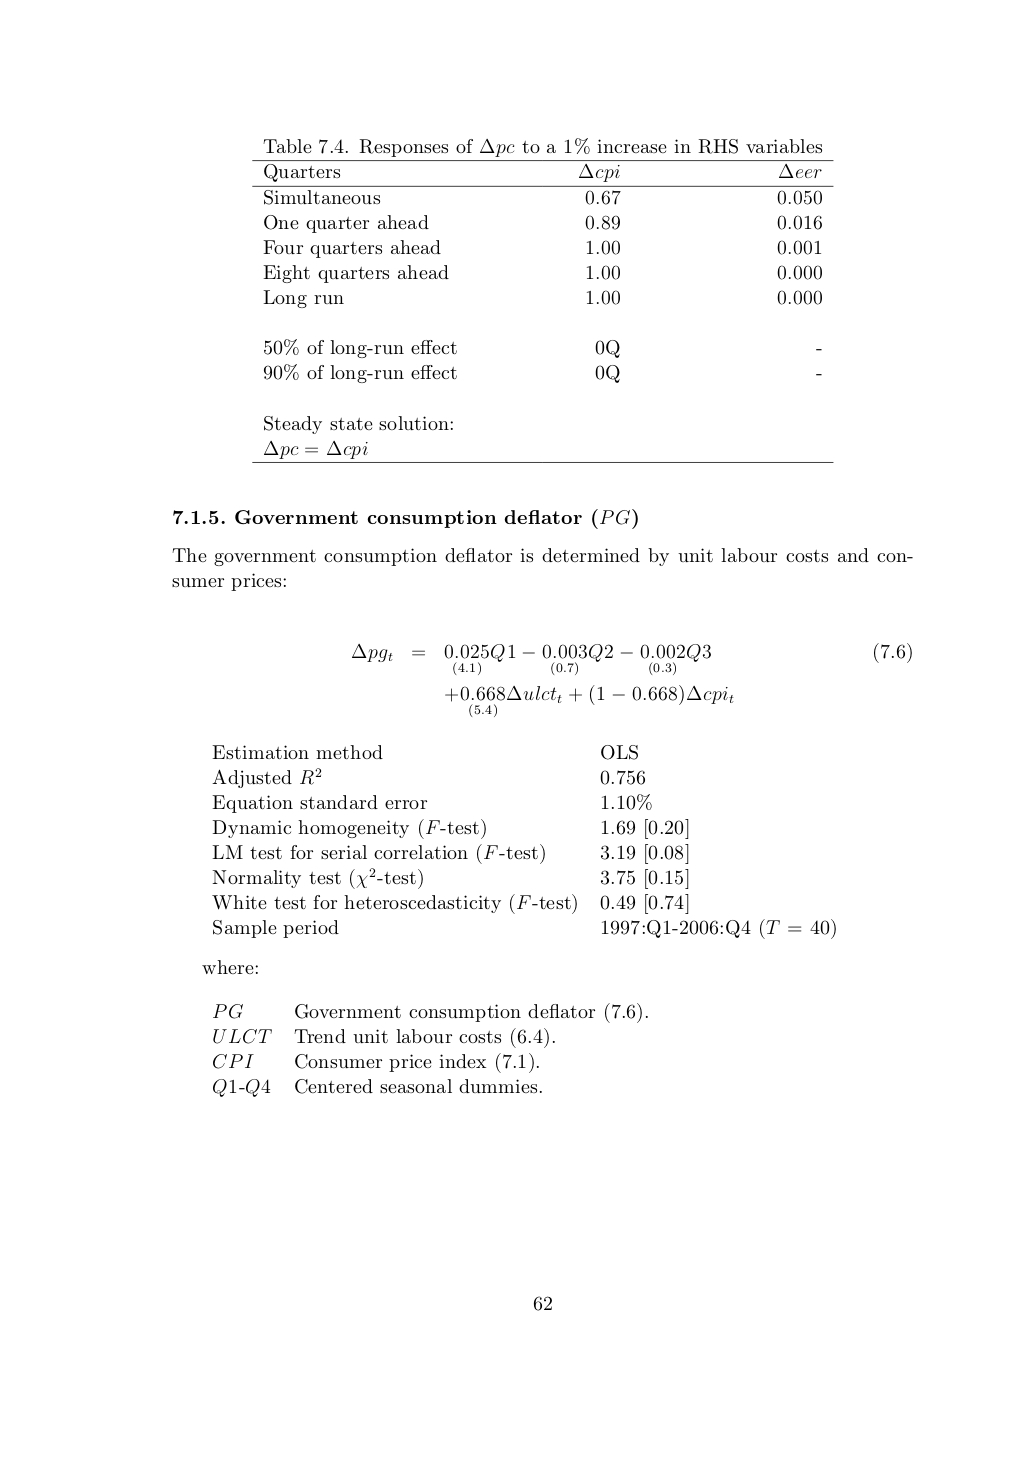Table: (252, 160, 833, 458), (212, 745, 835, 938)
formula: (352, 642, 911, 676), (445, 684, 733, 718)
